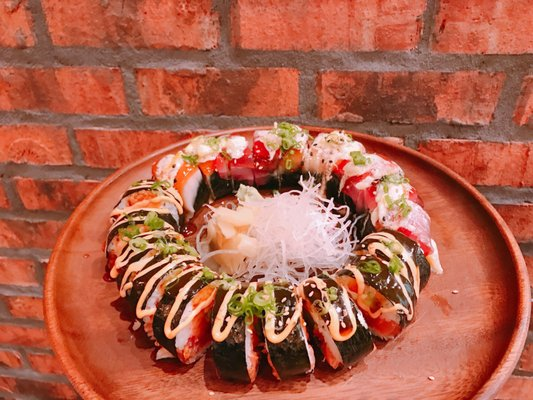sandwich: (65, 123, 452, 394)
